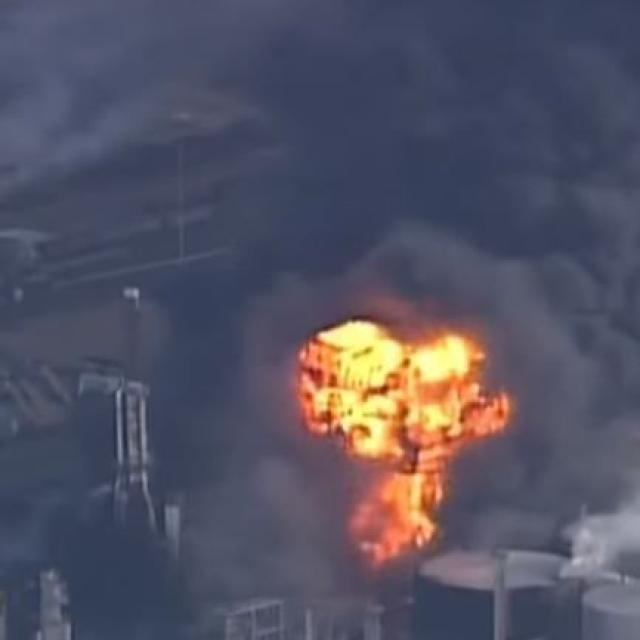Fire: (324, 328, 487, 573)
Smoke: (0, 0, 640, 318), (195, 312, 333, 602), (486, 327, 640, 547)
